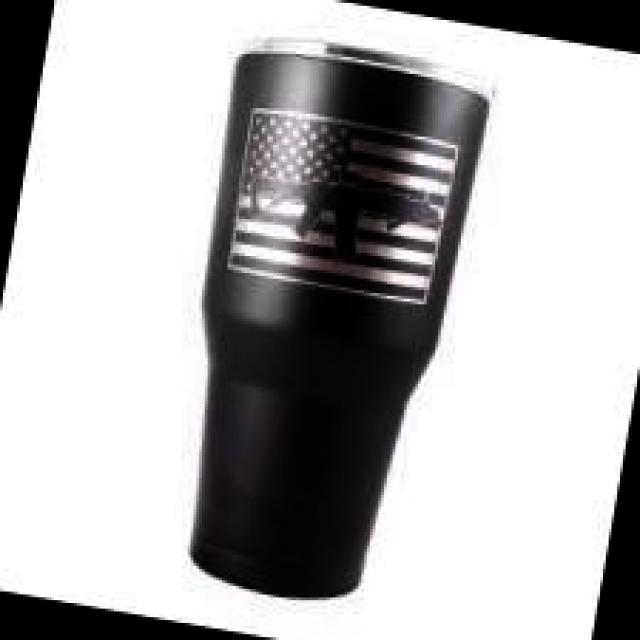bottle: (143, 18, 490, 613)
